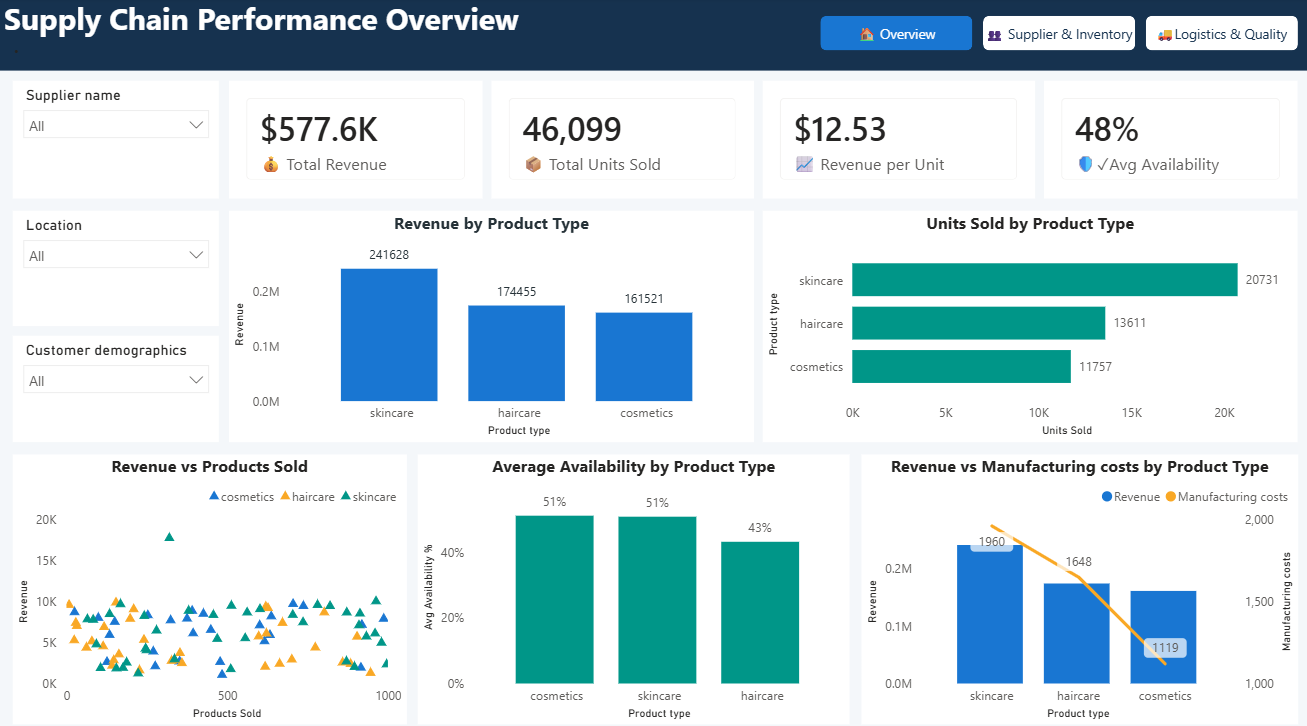

Layout of this report page (visuals, bound fields, positions):
{"tool":"powerbi","page":{"name":"🏠 Overview","canvas":[1280,720],"ordinal":0},"visuals":[{"type":"cardVisual","fields":{"Data":["Measure Table.Total Revenue"]},"box":[225,81.9,248.2,114.9],"z":1000},{"type":"textbox","title":"Supply Chain Performance Overview","box":[0,0,1279.7,72.1],"z":1500},{"type":"cardVisual","fields":{"Data":["Measure Table.Total Units Sold"]},"box":[481.8,81.9,256.8,114.9],"z":2000},{"type":"cardVisual","fields":{"Data":["Measure Table.Revenue Pre Unit"]},"box":[747.2,81.9,266.6,114.9],"z":3000},{"type":"cardVisual","fields":{"Data":["Measure Table.Average Availability %"]},"box":[1022.3,81.9,248.2,114.9],"z":4000},{"type":"clusteredColumnChart","title":"Revenue by Product Type","fields":{"Category":["supply_chain_data.Product type"],"Y":["Sum(supply_chain_data.Revenue generated)"]},"box":[225,209.1,513.6,226.2],"z":5000},{"type":"clusteredBarChart","title":"Units Sold by Product Type","fields":{"Category":["supply_chain_data.Product type"],"Y":["Sum(supply_chain_data.Number of products sold)"]},"box":[747.2,209.1,523.4,226.2],"z":6000},{"type":"scatterChart","title":"Revenue vs Products Sold","fields":{"Series":["supply_chain_data.Product type"],"X":["supply_chain_data.Number of products sold"],"Y":["Sum(supply_chain_data.Revenue generated)"]},"box":[13,447.3,385.2,264],"z":7000},{"type":"clusteredColumnChart","title":"Average Availability by Product Type","fields":{"Category":["supply_chain_data.Product type"],"Y":["Measure Table.Avg Availability %"]},"box":[409.7,447.3,422.7,264],"z":8000},{"type":"lineStackedColumnComboChart","title":"Revenue vs Manufacturing costs by Product Type","fields":{"Category":["supply_chain_data.Product type"],"Y":["Sum(supply_chain_data.Revenue generated)"],"Y2":["Sum(supply_chain_data.Manufacturing costs)"]},"box":[844,447.3,427.1,264],"z":9000},{"type":"slicer","fields":{"Values":["supply_chain_data.Supplier name"]},"box":[13.5,81.9,201.8,114.9],"z":10000},{"type":"slicer","fields":{"Values":["supply_chain_data.Customer demographics"]},"box":[13.5,331.4,201.8,103.9],"z":11000},{"type":"slicer","fields":{"Values":["supply_chain_data.Location"]},"box":[13.5,209.1,201.8,112.5],"z":12000},{"type":"pageNavigator","box":[803.6,18.8,467.5,34.6],"z":13000}]}

Visuals, with their boxes in screenshot pixels (x1, y1, x2, y2), scaled from the page's 1280x720 canvas onto the 1307x726 screenshot:
cardVisual - Measure Table.Total Revenue: bbox(230, 83, 483, 198)
"Supply Chain Performance Overview" textbox: bbox(0, 0, 1306, 73)
cardVisual - Measure Table.Total Units Sold: bbox(492, 83, 754, 198)
cardVisual - Measure Table.Revenue Pre Unit: bbox(763, 83, 1035, 198)
cardVisual - Measure Table.Average Availability %: bbox(1044, 83, 1297, 198)
"Revenue by Product Type" clusteredColumnChart: bbox(230, 211, 754, 439)
"Units Sold by Product Type" clusteredBarChart: bbox(763, 211, 1297, 439)
"Revenue vs Products Sold" scatterChart: bbox(13, 451, 407, 717)
"Average Availability by Product Type" clusteredColumnChart: bbox(418, 451, 850, 717)
"Revenue vs Manufacturing costs by Product Type" lineStackedColumnComboChart: bbox(862, 451, 1298, 717)
slicer - supply_chain_data.Supplier name: bbox(14, 83, 220, 198)
slicer - supply_chain_data.Customer demographics: bbox(14, 334, 220, 439)
slicer - supply_chain_data.Location: bbox(14, 211, 220, 324)
pageNavigator: bbox(821, 19, 1298, 54)
